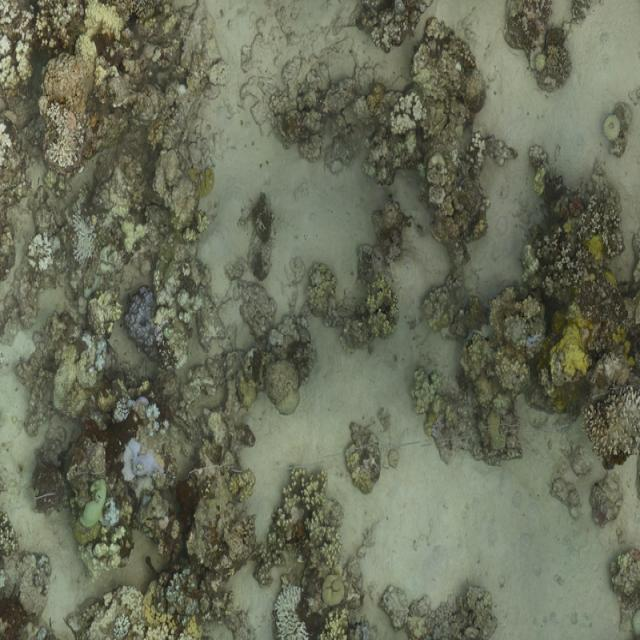Bleached Coral: (272, 580, 310, 640), (387, 87, 421, 151), (22, 227, 60, 283)
